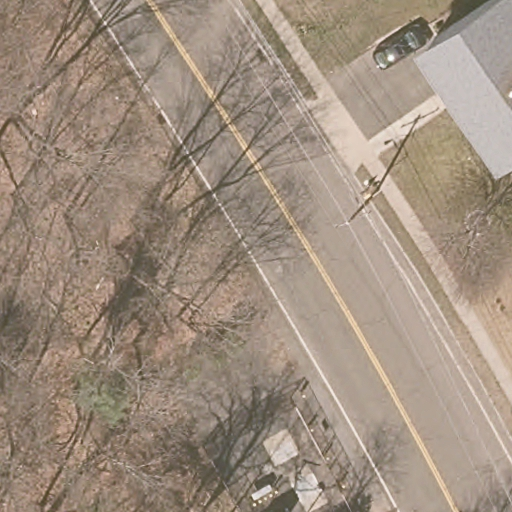DT: (336, 167, 392, 230)
